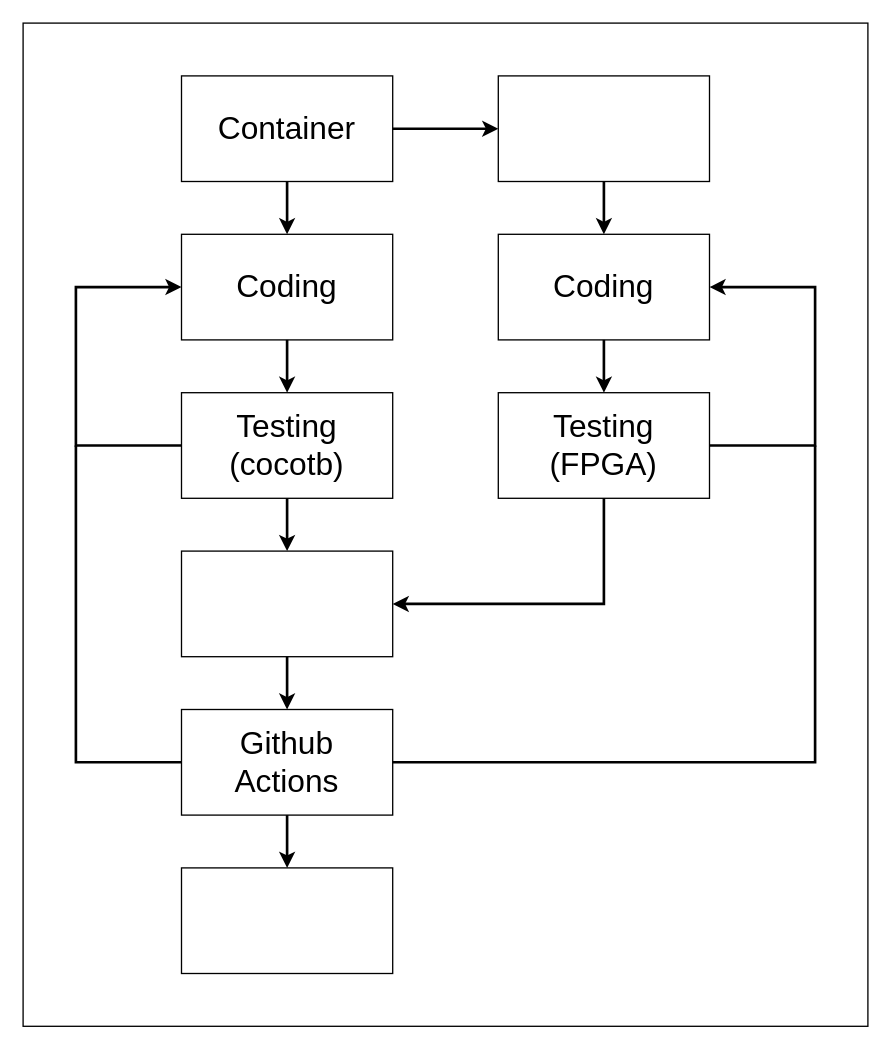
The diagram is 891 pixels wide and 1049 high, and some of its shapes have lost their labels. Each missing label, with the centre of its shape:
Commit: point 286,603
Pull Request: point 286,920
Quartus: point 603,128
